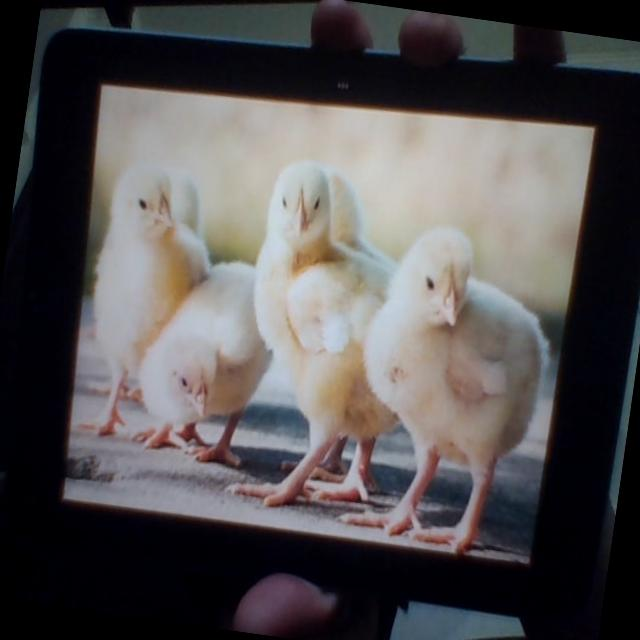Healthy: (347, 214, 556, 560), (226, 164, 414, 514), (88, 165, 206, 346)
Sick: (132, 258, 268, 474)
